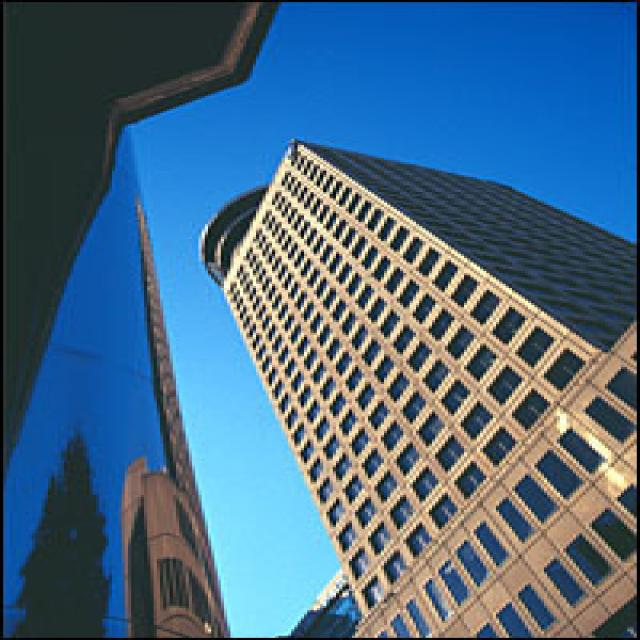building: (195, 135, 640, 640)
